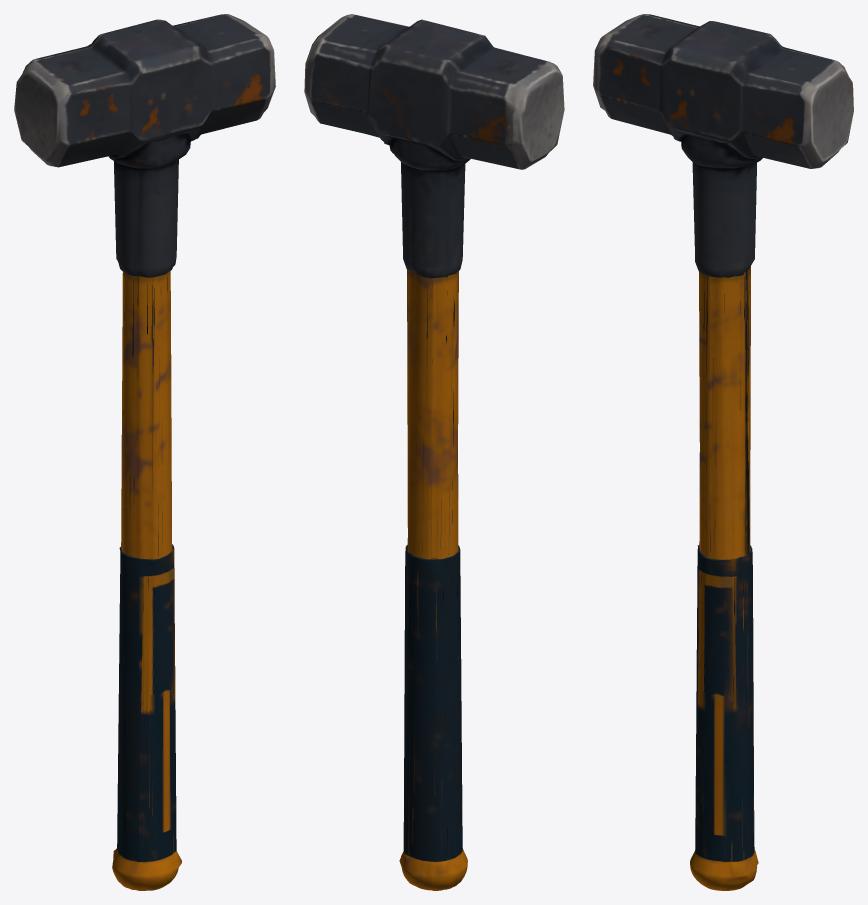
File: sledgehammer.glb
The picture shows the model from 3 angles, left to right: view 1: azimuth 30°, elevation 25°; view 2: azimuth 150°, elevation 25°; view 3: azimuth 330°, elevation 25°; orthographic projection.
Parts seen in each view (by area): view 1: geometry_0; view 2: geometry_0; view 3: geometry_0.
Boxes of the visible parts, <box> form: geometry_0: <box>14,14,275,890</box>; geometry_0: <box>304,14,564,890</box>; geometry_0: <box>593,14,853,890</box>.
Bounding box in the file's own units: 0.2603 × 0.9497 × 0.1045.
Materials: 1 (1 with a texture image).
